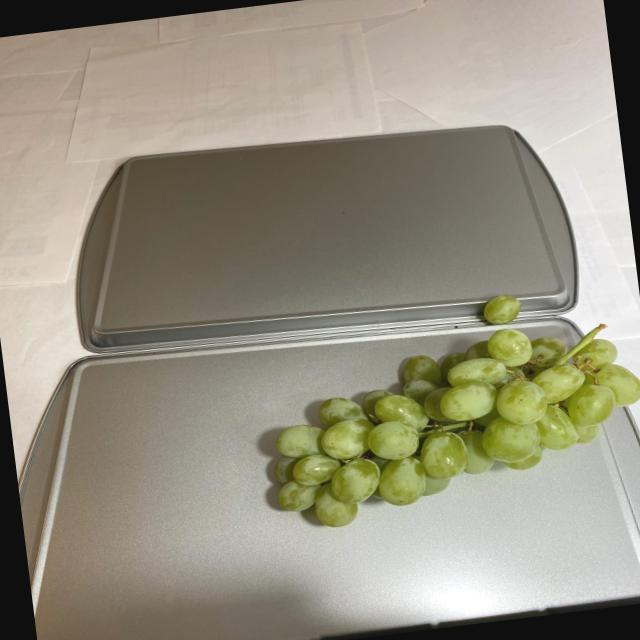grapes: (243, 278, 640, 528)
